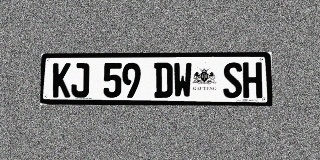5: (103, 63, 122, 98)
9: (122, 63, 141, 98)
D: (154, 63, 173, 98)
H: (243, 62, 262, 98)
J: (71, 63, 89, 98)
K: (52, 63, 71, 97)
S: (223, 62, 242, 98)
W: (173, 62, 192, 98)
